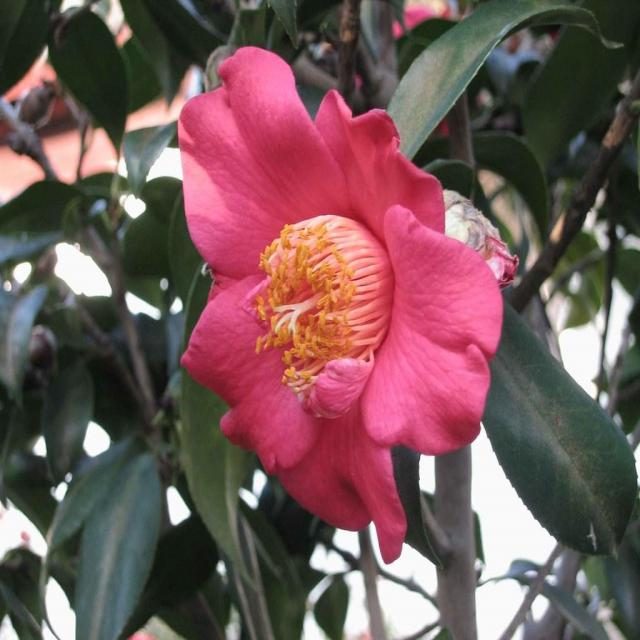organic waste: (166, 51, 500, 567)
